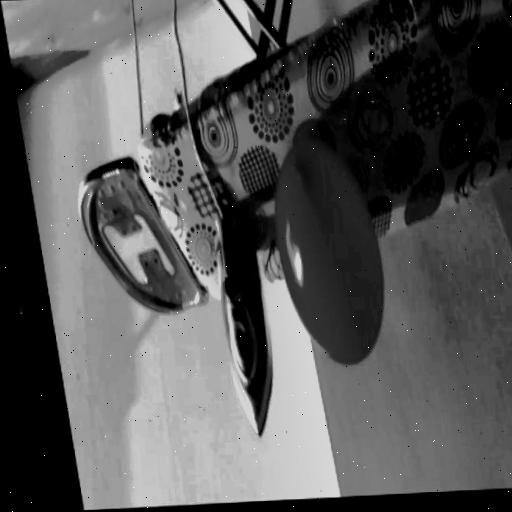balloon: (252, 128, 397, 395)
